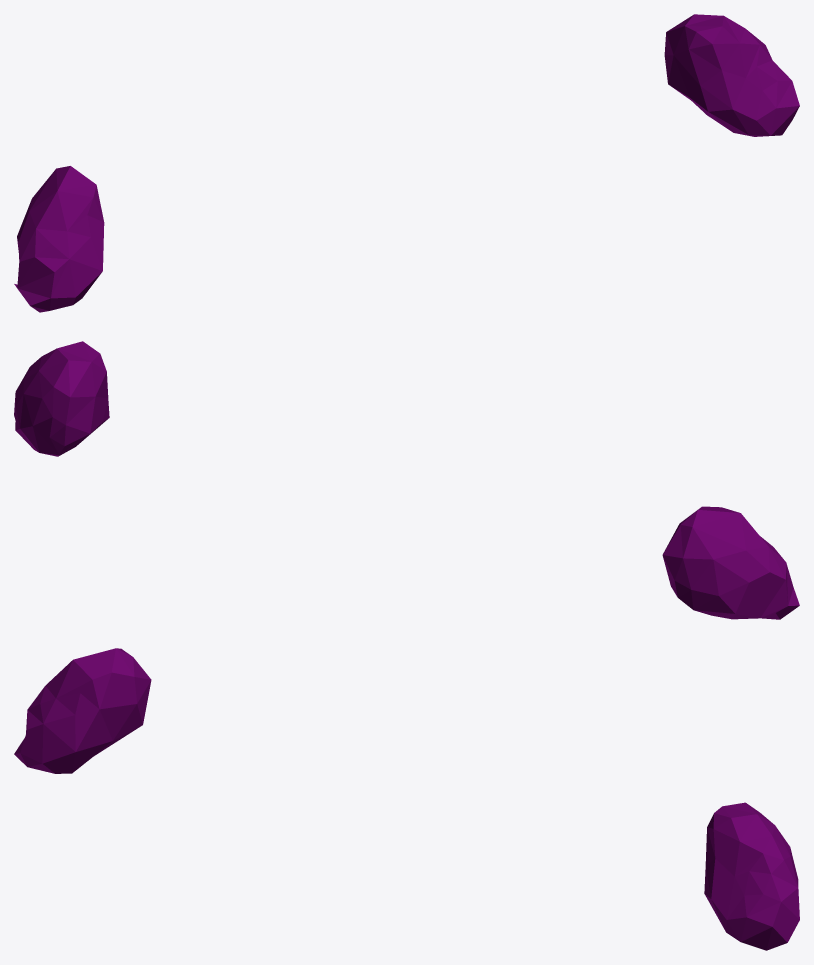
Rendered from 83-MGD-medial geniculate nucleus, dorsal part-('0.4980', '0.0000', '0.4980').obj.
The picture shows the model from 3 angles, top to bottom: view 1: azimuth 30°, elevation 25°; view 2: azimuth 150°, elevation 25°; view 3: azimuth 330°, elevation 25°; orthographic projection.
Size of the model in its own units: 127 by 18.09 by 16.68.
